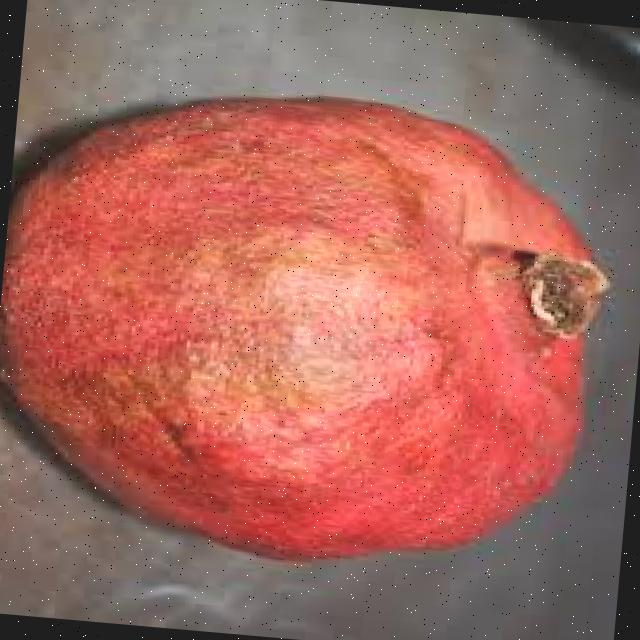overripe: (0, 64, 638, 593)
